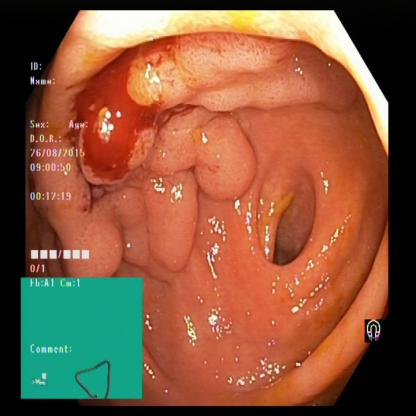Labels: (27, 52, 91, 277), (22, 277, 141, 396)
Polyps: (198, 110, 262, 203), (143, 173, 203, 268), (84, 90, 147, 180), (63, 202, 127, 283), (142, 109, 199, 177), (136, 49, 194, 114)
